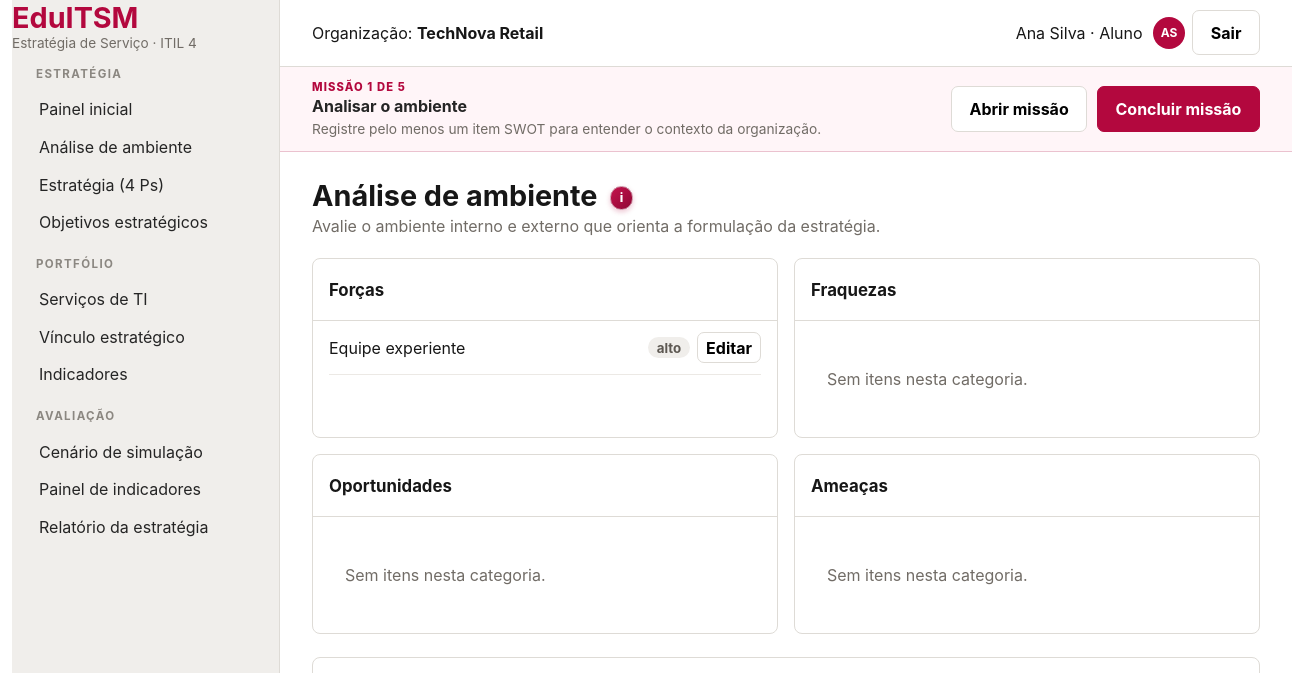
Test: T03 análise de ambiente › edita um item existente e apresenta confirmação de sucesso
Click the button named "Editar Equipe experiente" at (729, 348), box [697, 332, 761, 363]
(page scrolled)
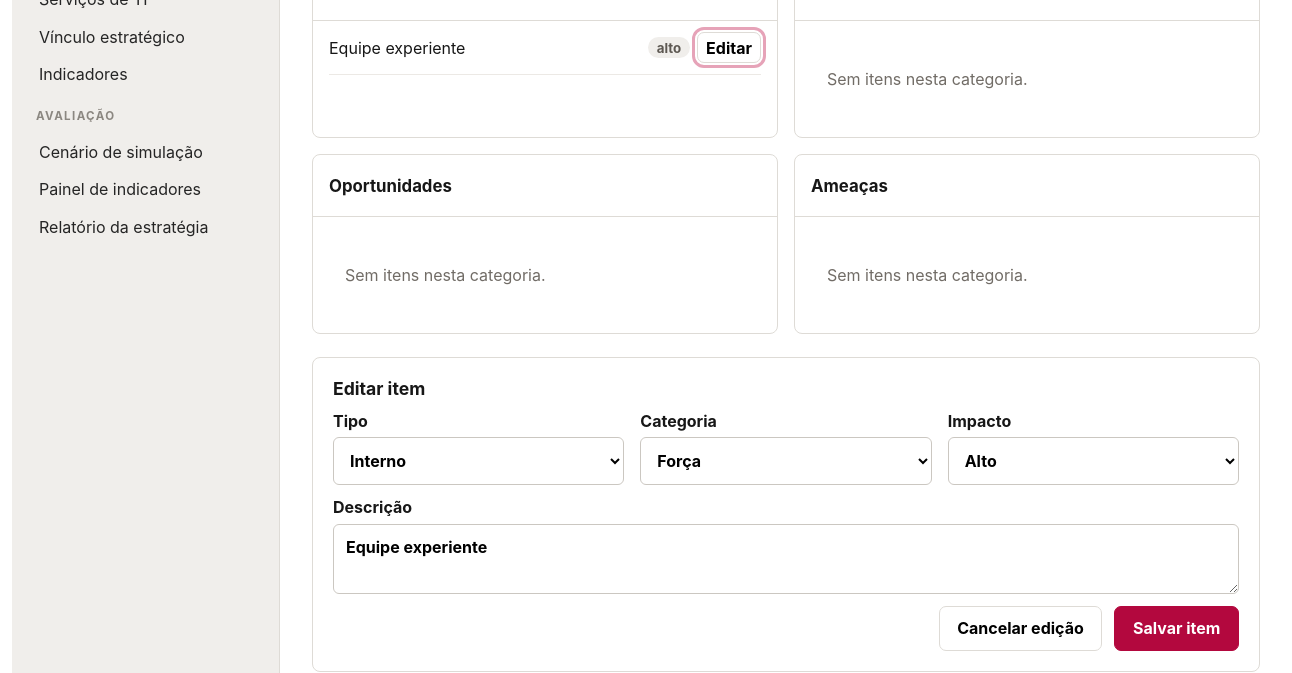
Replace the text in the text box labelled "Descrição" with "Equipe multidisciplinar" at (786, 558), box [333, 524, 1239, 594]
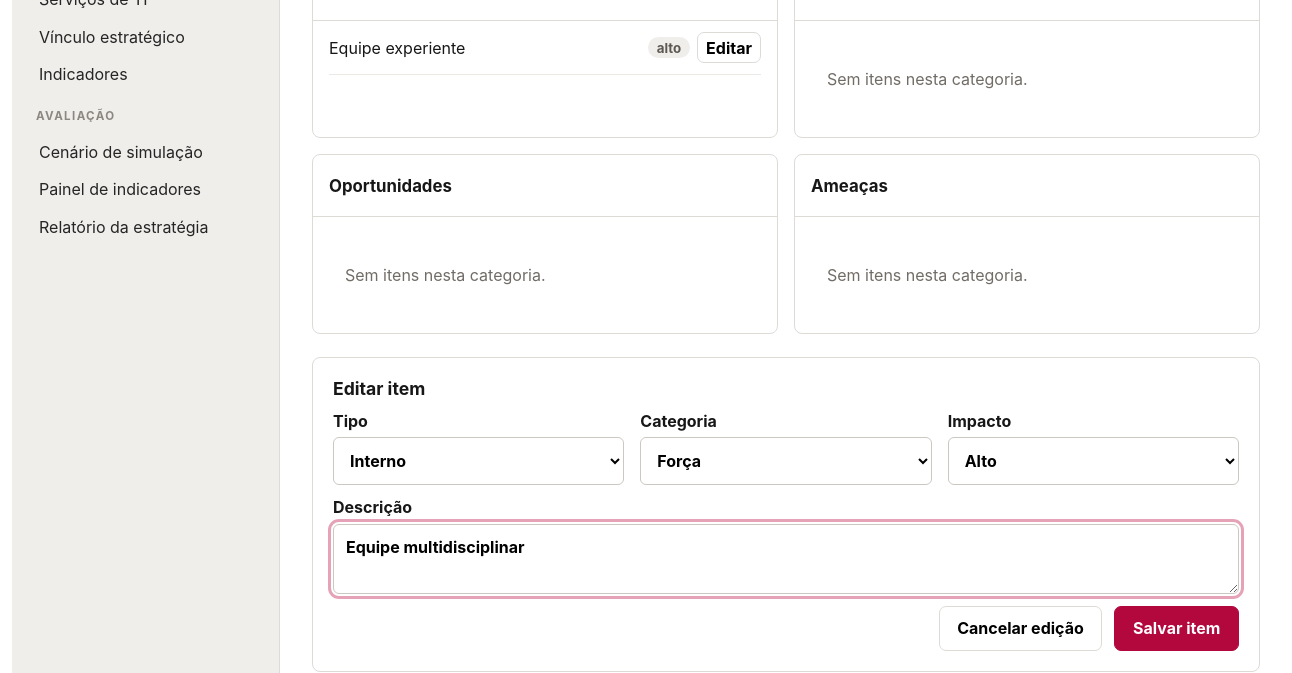
Click the button "Salvar item" at (1177, 628), box [1114, 606, 1239, 650]
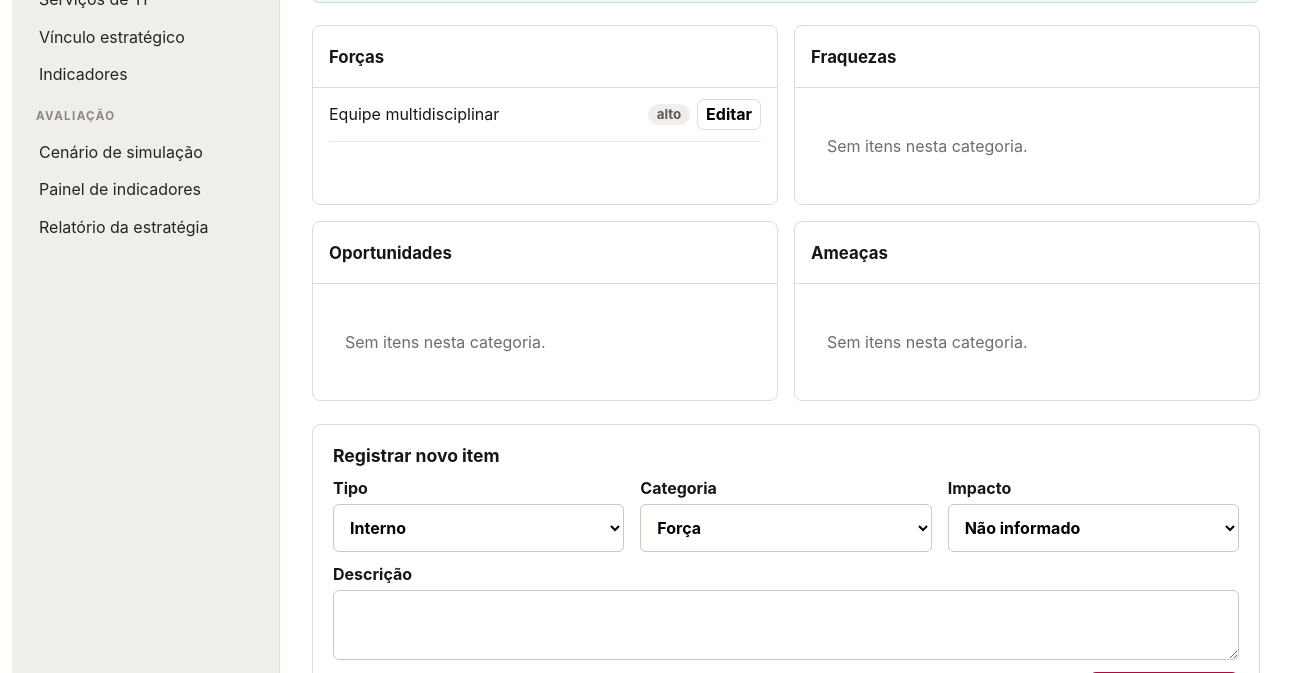
Result: the text "Equipe multidisciplinar" is shown at [329, 104, 499, 124]
